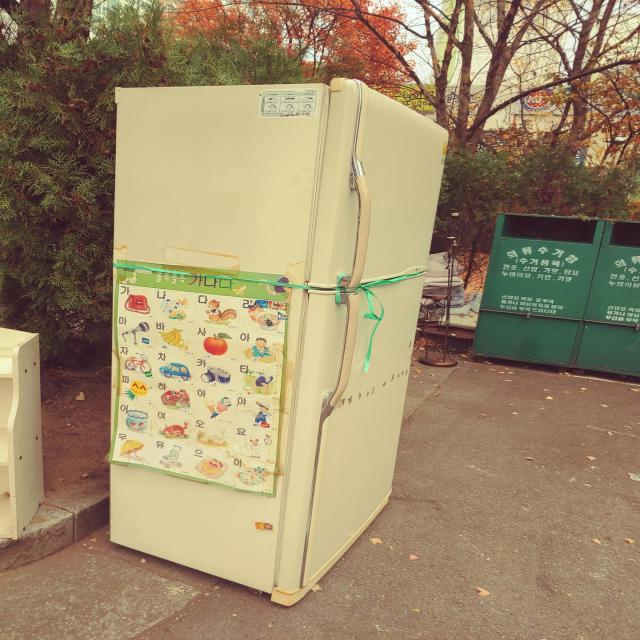refrigerator: (102, 75, 454, 610)
